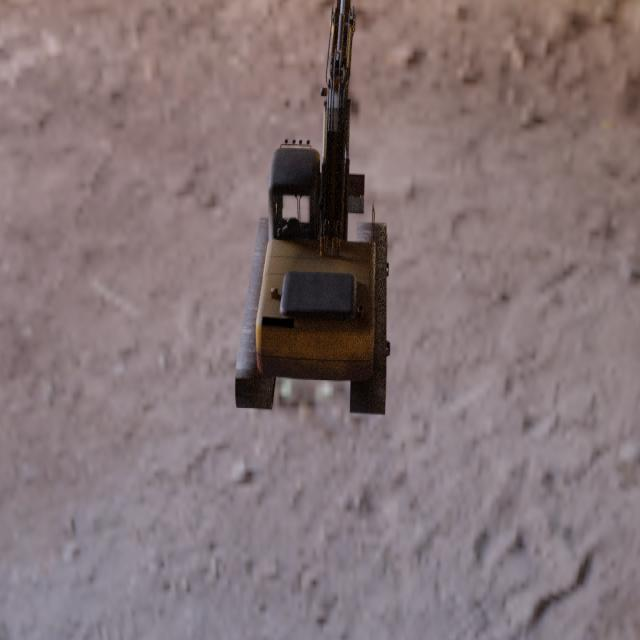excavator: (234, 0, 390, 416)
